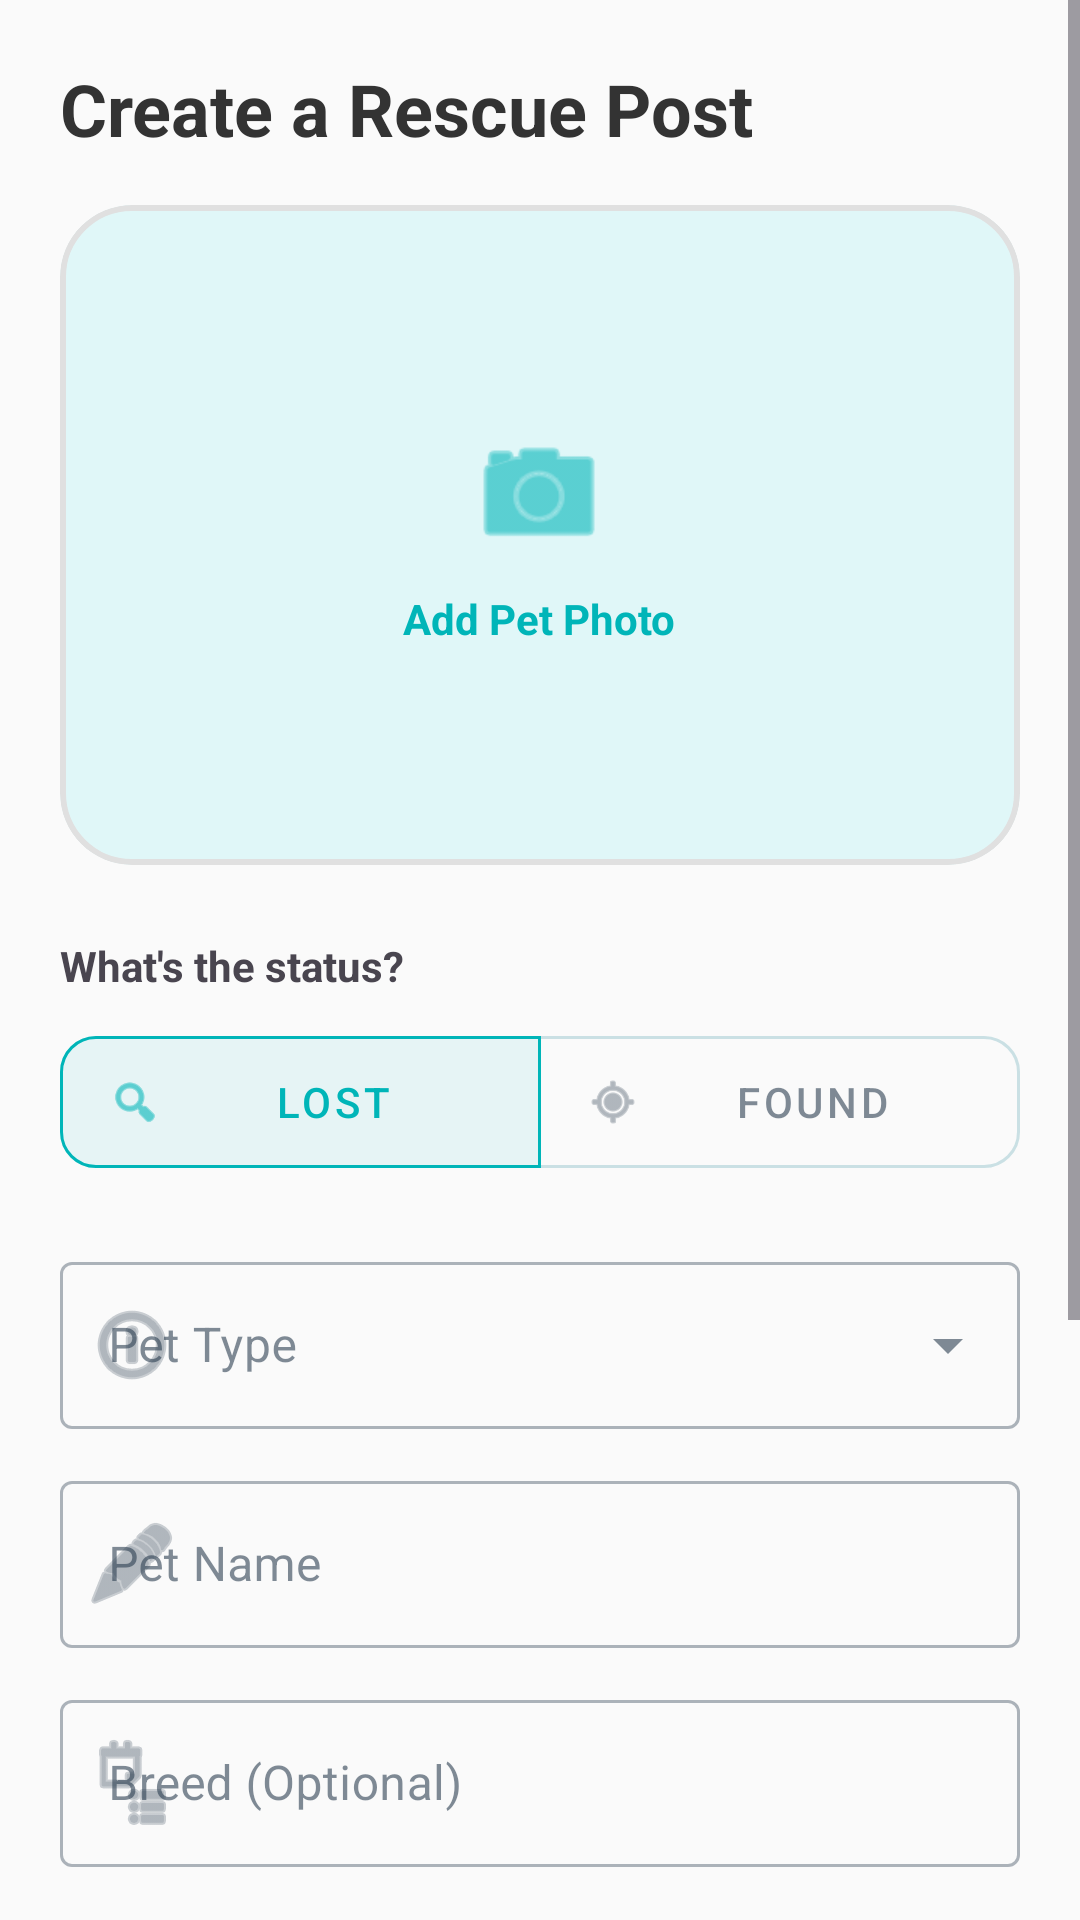

Where to tap for icons on this 1080x1920 app screen, as [x,y]:
camera: [539,491]
